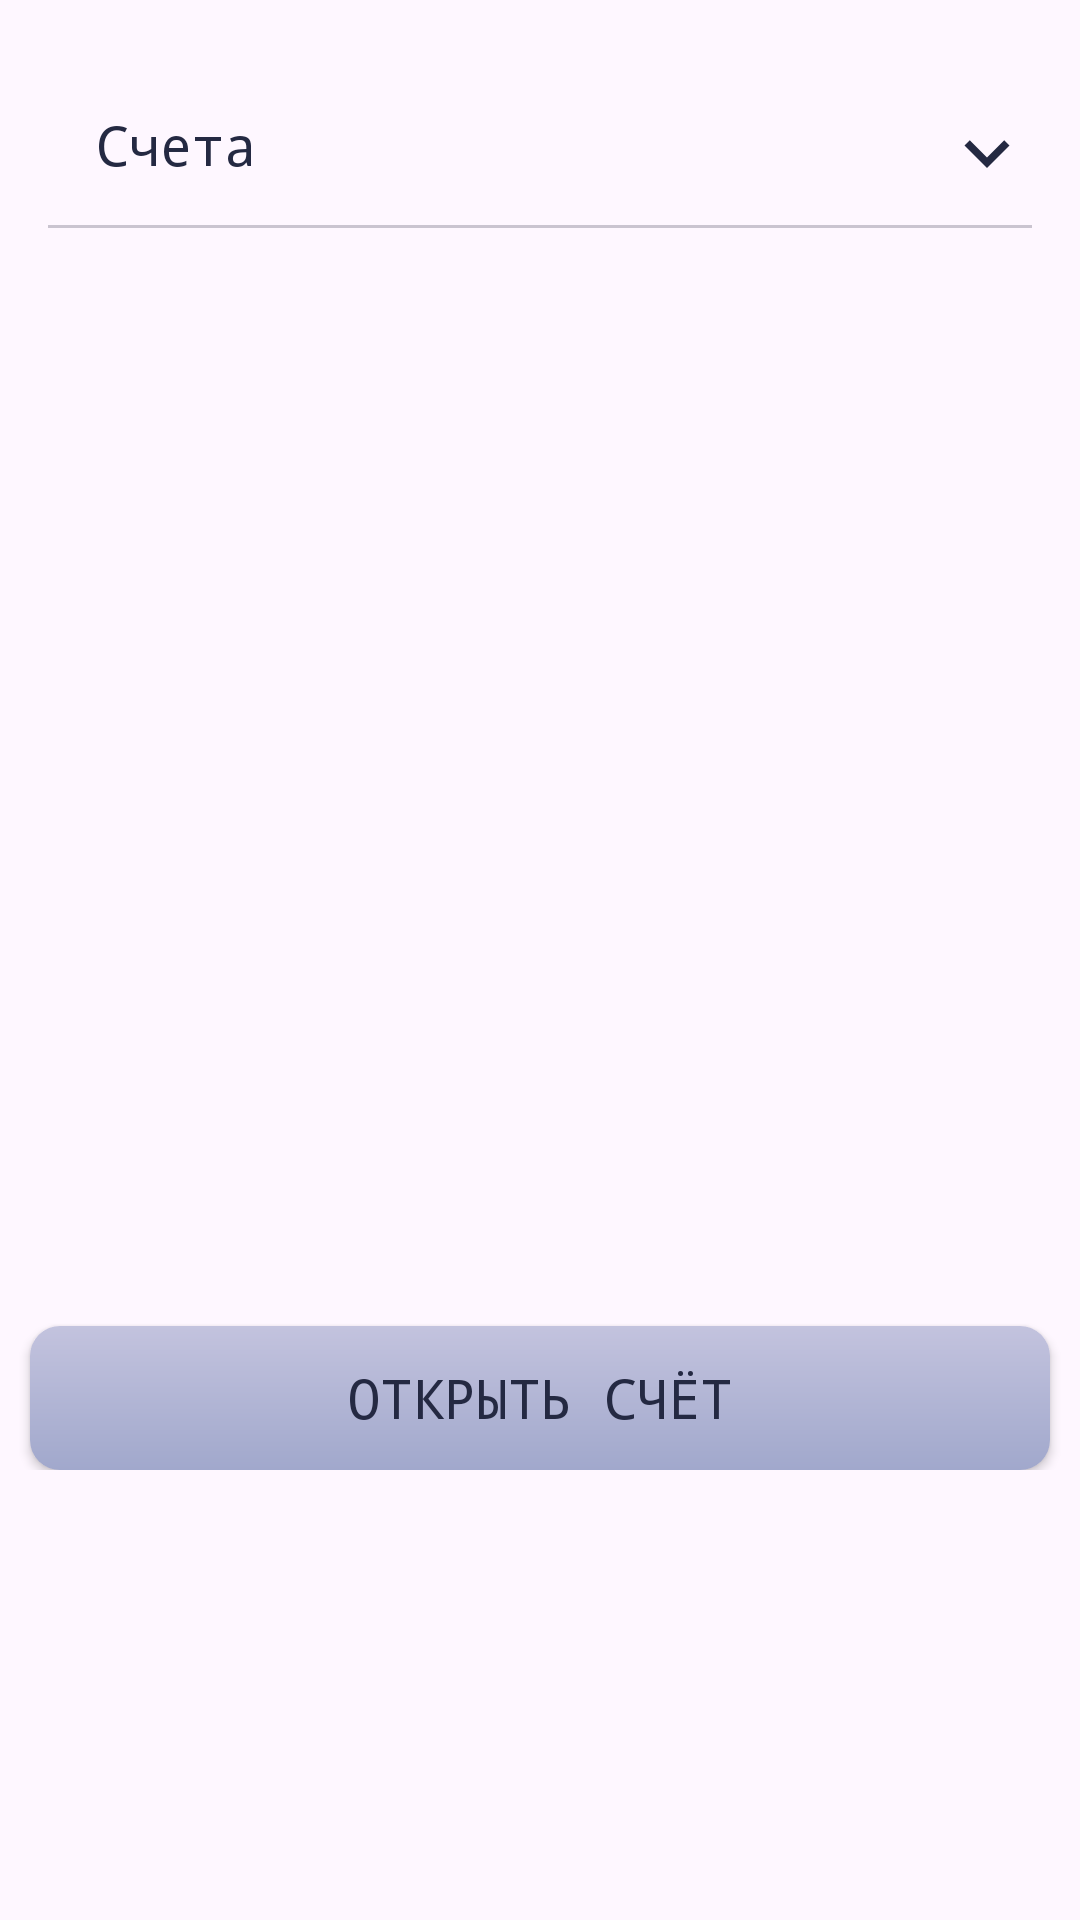

Named icons in this screenshot (1080 x 1920) and their bounding boxes, (x1, y1, x2, y2):
aarrow down: (964, 140, 1010, 168)
